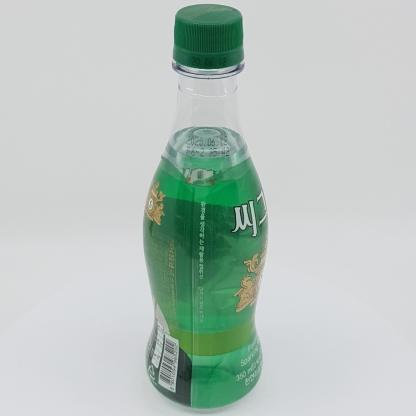-------350ML: (143, 4, 268, 411)
